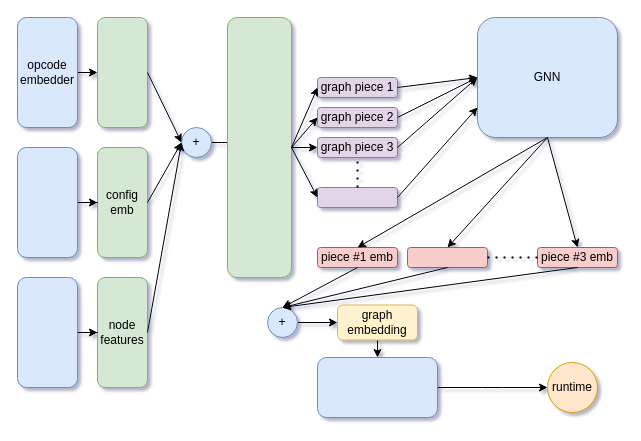
Some shapes in this 641 by 441 pixel diagram are drawn without their labels. The shapes that lost their labels are listed below. From the top down, each one's centre as x and y in pixels, then its label:
At (x=122, y=72): "opcode emb".
At (x=259, y=147): "full graph sequence".
At (x=47, y=202): "config embedder".
At (x=357, y=197): "graph piece n".
At (x=447, y=257): "piece #2 emb".
At (x=47, y=332): "node feature embedder".
At (x=377, y=387): "Linear".
